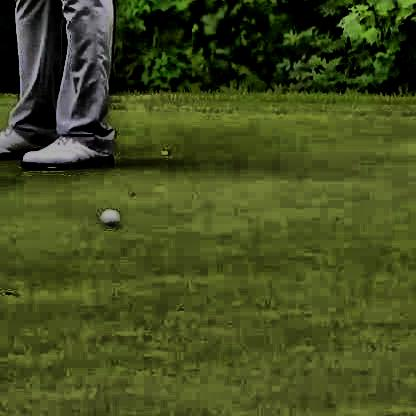golfball: (96, 205, 117, 226)
